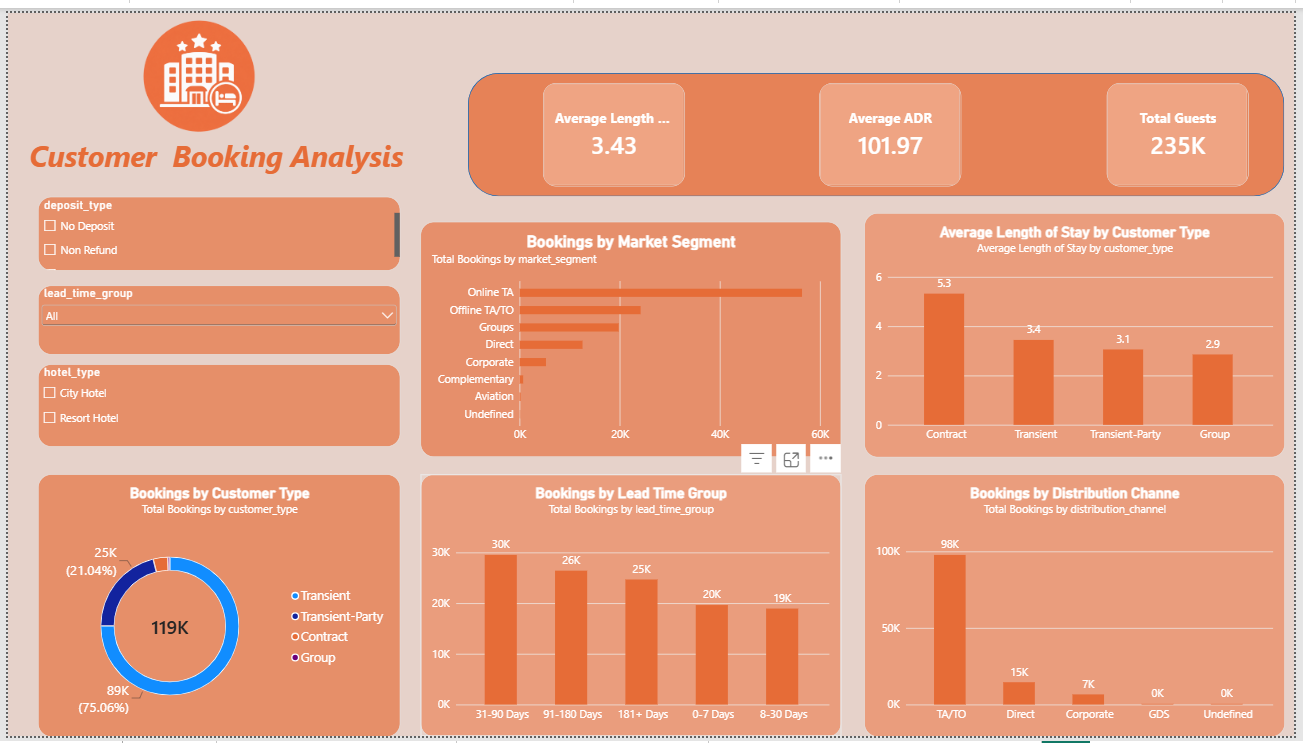

This screenshot's page, from the dashboard's own definition file:
{"tool":"powerbi","page":{"name":"Customer & Booking Analysis ","canvas":[1920,1080],"ordinal":2},"visuals":[{"type":"shape","box":[686.5,90.2,1218.4,184.1],"z":0},{"type":"cardVisual","fields":{"Data":["Hotel_Bookings_Cleaned.Average Length of Stay"]},"box":[798.8,104.9,211.7,154.6],"z":1000},{"type":"cardVisual","fields":{"Data":["Hotel_Bookings_Cleaned.Average ADR"]},"box":[1211,104.9,211.7,154.6],"z":2000},{"type":"cardVisual","fields":{"Data":["Hotel_Bookings_Cleaned.Total Guests"]},"box":[1639.9,104.9,211.7,154.6],"z":3000},{"type":"donutChart","title":"Bookings by Customer Type","fields":{"Y":["Hotel_Bookings_Cleaned.Total Bookings"],"Category":["Hotel_Bookings_Cleaned.customer_type"]},"box":[44.2,688.3,541.1,392],"z":4000},{"type":"clusteredBarChart","title":"Bookings by Market Segment","fields":{"Category":["Hotel_Bookings_Cleaned.market_segment"],"Y":["Hotel_Bookings_Cleaned.Total Bookings"]},"box":[616.6,311,627.6,351.5],"z":5000},{"type":"clusteredColumnChart","title":"Bookings by Distribution Channe","fields":{"Y":["Hotel_Bookings_Cleaned.Total Bookings"],"Category":["Hotel_Bookings_Cleaned.distribution_channel"]},"box":[1277.3,688,627.6,392],"z":6000},{"type":"clusteredColumnChart","title":"Bookings by Lead Time Group","fields":{"Y":["Hotel_Bookings_Cleaned.Total Bookings"],"Category":["Hotel_Bookings_Cleaned.lead_time_group"]},"box":[616.6,688.3,627.6,392],"z":7000},{"type":"clusteredColumnChart","title":"Average Length of Stay by Customer Type","fields":{"Category":["Hotel_Bookings_Cleaned.customer_type"],"Y":["Hotel_Bookings_Cleaned.Average Length of Stay"]},"box":[1277.3,298.2,627.6,364.4],"z":8000},{"type":"slicer","fields":{"Values":["Hotel_Bookings_Cleaned.hotel_type"]},"box":[44.2,524.5,541.1,123.3],"z":9000},{"type":"slicer","fields":{"Values":["Hotel_Bookings_Cleaned.lead_time_group"]},"box":[44.2,406.8,541.1,103.1],"z":10000},{"type":"slicer","fields":{"Values":["Hotel_Bookings_Cleaned.deposit_type"]},"box":[44.2,274.2,541.1,110.4],"z":11000},{"type":"textbox","box":[31.7,182.9,584,76.5],"z":12000},{"type":"image","box":[130.6,0,309.7,182.9],"z":12001}]}

Visuals, with their boxes in screenshot pixels (x1, y1, x2, y2), scaled from the page's 1920x1080 canvas onto the 1303x743 screenshot:
shape: BBox(466, 62, 1293, 189)
cardVisual - Hotel_Bookings_Cleaned.Average Length of Stay: BBox(542, 72, 686, 179)
cardVisual - Hotel_Bookings_Cleaned.Average ADR: BBox(822, 72, 966, 179)
cardVisual - Hotel_Bookings_Cleaned.Total Guests: BBox(1113, 72, 1257, 179)
"Bookings by Customer Type" donutChart: BBox(30, 474, 397, 742)
"Bookings by Market Segment" clusteredBarChart: BBox(418, 214, 844, 456)
"Bookings by Distribution Channe" clusteredColumnChart: BBox(867, 473, 1293, 742)
"Bookings by Lead Time Group" clusteredColumnChart: BBox(418, 474, 844, 742)
"Average Length of Stay by Customer Type" clusteredColumnChart: BBox(867, 205, 1293, 456)
slicer - Hotel_Bookings_Cleaned.hotel_type: BBox(30, 361, 397, 446)
slicer - Hotel_Bookings_Cleaned.lead_time_group: BBox(30, 280, 397, 351)
slicer - Hotel_Bookings_Cleaned.deposit_type: BBox(30, 189, 397, 265)
textbox: BBox(22, 126, 418, 178)
image: BBox(89, 0, 299, 126)
